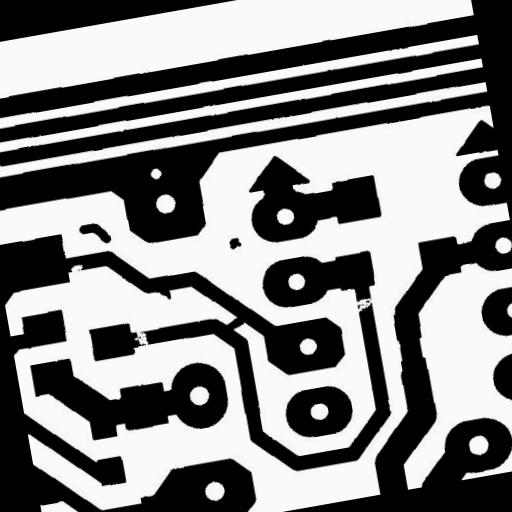copper: (69, 211, 120, 255), (219, 228, 250, 258)
mousebite: (61, 255, 92, 282)
open: (340, 288, 382, 322), (123, 318, 156, 355)
pin-hole: (140, 158, 170, 188)
short: (388, 322, 432, 375), (252, 172, 304, 208), (215, 306, 256, 340)
spur: (148, 278, 179, 309)
